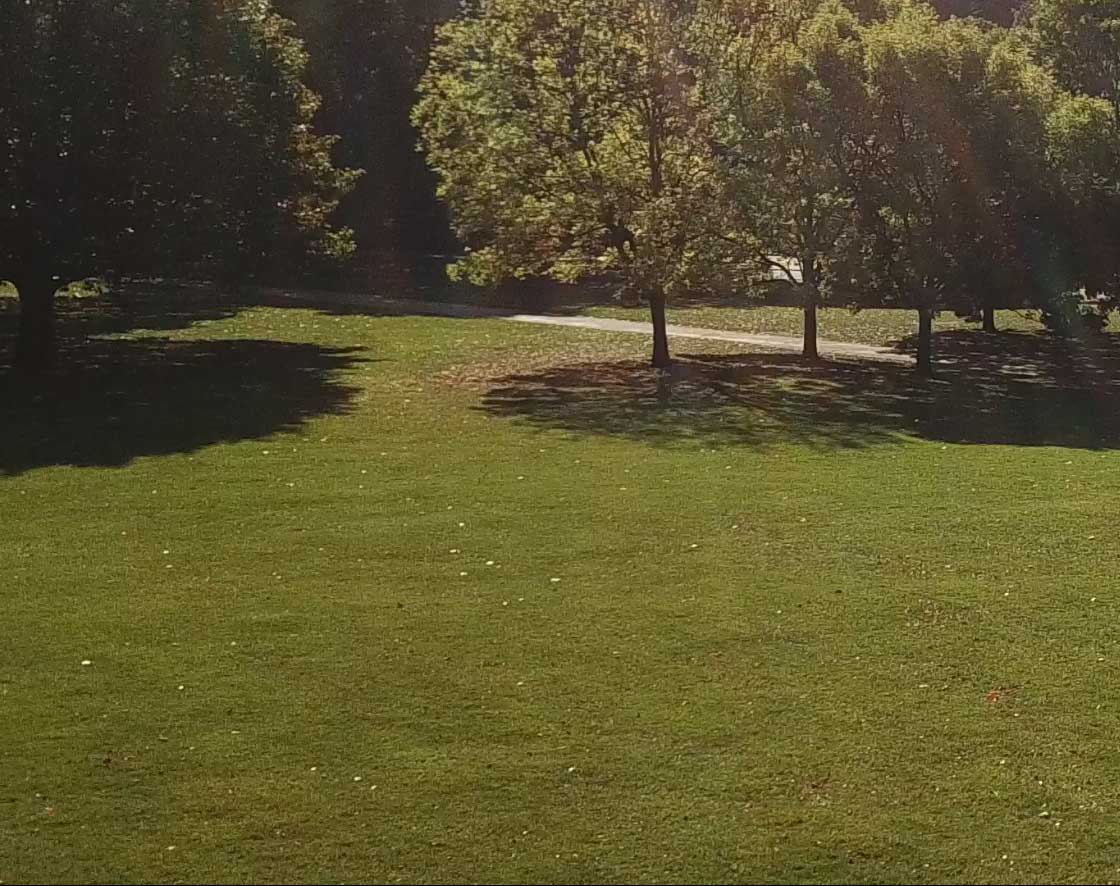tree: (1, 4, 341, 395), (403, 1, 751, 378), (724, 1, 902, 373), (857, 1, 1020, 371)
